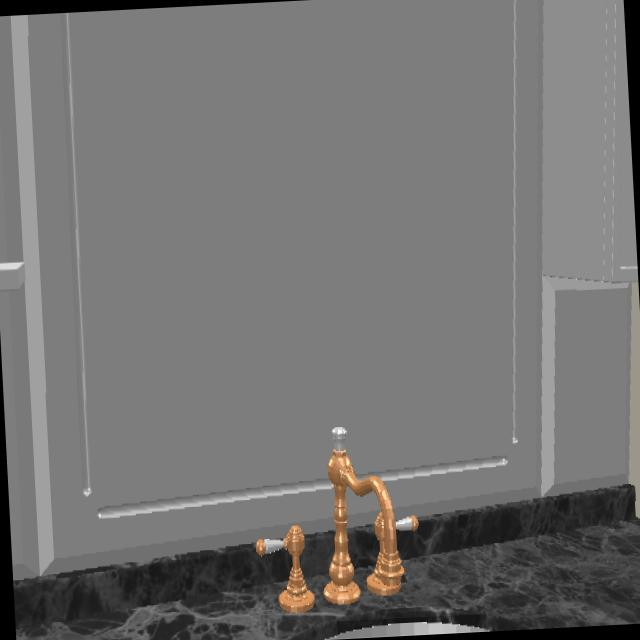washbasin: (342, 619, 483, 638)
